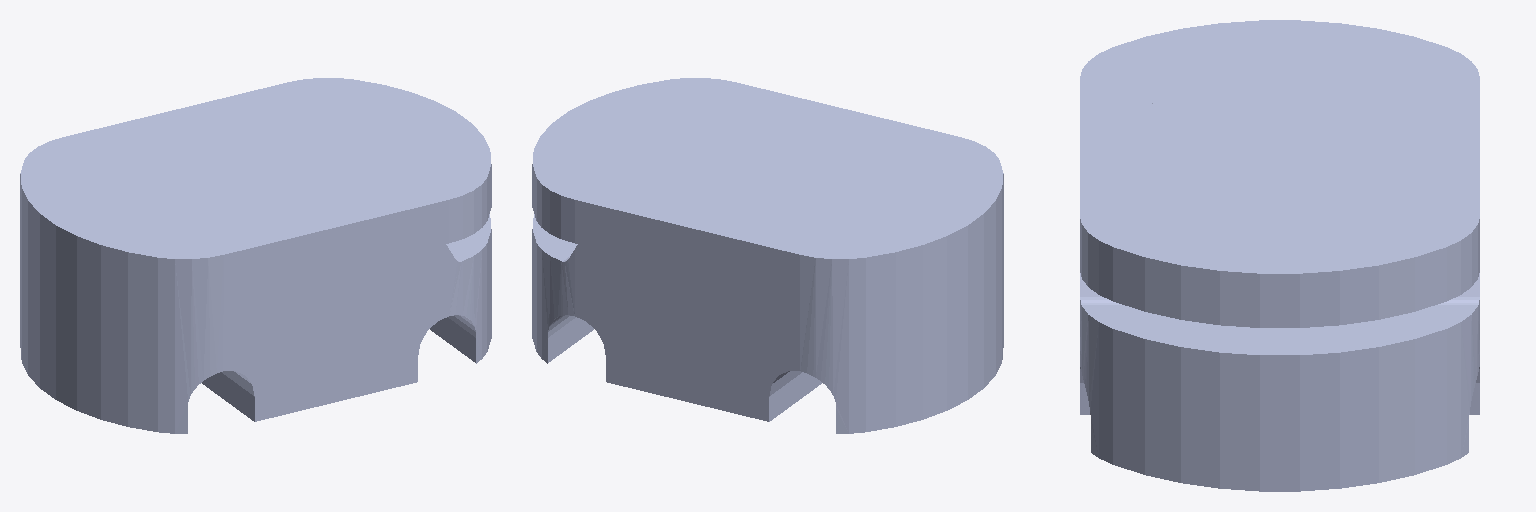
URDF robot description (coba1):
<?xml version="1.0" encoding="utf-8"?>
<!-- This URDF was automatically created by SolidWorks to URDF Exporter! Originally created by [author] ([email redacted]) 
     Commit Version: 1.6.0-4-g7f85cfe  Build Version: 1.6.7995.38578
     For more information, please see http://wiki.ros.org/sw_urdf_exporter -->
<robot
  name="coba1">
  <link
    name="base_link">
    <inertial>
      <origin
        xyz="-0.0060166762532463 8.91299401066717E-08 0.12807893088727"
        rpy="0 0 0" />
      <mass
        value="45.3758520944155" />
      <inertia
        ixx="0.744970811759371"
        ixy="1.05348354285782E-06"
        ixz="0.0101713592661191"
        iyy="1.29692340687596"
        iyz="-4.79450564512595E-07"
        izz="1.6330706670946" />
    </inertial>
    <visual>
      <origin
        xyz="0 0 0"
        rpy="0 0 0" />
      <geometry>
        <mesh
          filename="package://coba1/meshes/base_link.STL" />
      </geometry>
      <material
        name="">
        <color
          rgba="0.792156862745098 0.819607843137255 0.933333333333333 1" />
      </material>
    </visual>
    <collision>
      <origin
        xyz="0 0 0"
        rpy="0 0 0" />
      <geometry>
        <mesh
          filename="package://coba1/meshes/base_link.STL" />
      </geometry>
    </collision>
  </link>
  <link
    name="front_wl">
    <inertial>
      <origin
        xyz="0.1625 0.178772924632851 0.0279999999999998"
        rpy="0 0 0" />
      <mass
        value="0.116774645151429" />
      <inertia
        ixx="2.21422284339803E-05"
        ixy="1.13149431115306E-17"
        ixz="3.03507428854868E-18"
        iyy="2.68140883577402E-05"
        iyz="-1.00838443768295E-17"
        izz="2.21422284339788E-05" />
    </inertial>
    <visual>
      <origin
        xyz="0 0 0"
        rpy="0 0 0" />
      <geometry>
        <mesh
          filename="package://coba1/meshes/front_wl.STL" />
      </geometry>
      <material
        name="">
        <color
          rgba="0.752941176470588 0.752941176470588 0.752941176470588 1" />
      </material>
    </visual>
    <collision>
      <origin
        xyz="0 0 0"
        rpy="0 0 0" />
      <geometry>
        <mesh
          filename="package://coba1/meshes/front_wl.STL" />
      </geometry>
    </collision>
  </link>
  <joint
    name="front_jl"
    type="revolute">
    <origin
      xyz="0 0 0"
      rpy="0 0 0" />
    <parent
      link="base_link" />
    <child
      link="front_wl" />
    <axis
      xyz="0 -1 0" />
    <limit
      lower="0"
      upper="0"
      effort="0"
      velocity="0" />
  </joint>
  <link
    name="rear_wl">
    <inertial>
      <origin
        xyz="-0.162500000000001 0.178772924632625 0.0279999999999995"
        rpy="0 0 0" />
      <mass
        value="0.116774645154449" />
      <inertia
        ixx="2.214222843399E-05"
        ixy="-1.27081472872317E-17"
        ixz="8.52763564065188E-19"
        iyy="2.68140883577964E-05"
        iyz="1.16128704588138E-17"
        izz="2.21422284339904E-05" />
    </inertial>
    <visual>
      <origin
        xyz="0 0 0"
        rpy="0 0 0" />
      <geometry>
        <mesh
          filename="package://coba1/meshes/rear_wl.STL" />
      </geometry>
      <material
        name="">
        <color
          rgba="0.752941176470588 0.752941176470588 0.752941176470588 1" />
      </material>
    </visual>
    <collision>
      <origin
        xyz="0 0 0"
        rpy="0 0 0" />
      <geometry>
        <mesh
          filename="package://coba1/meshes/rear_wl.STL" />
      </geometry>
    </collision>
  </link>
  <joint
    name="rear_jl"
    type="revolute">
    <origin
      xyz="0 0 0"
      rpy="0 0 0" />
    <parent
      link="base_link" />
    <child
      link="rear_wl" />
    <axis
      xyz="0 -1 0" />
    <limit
      lower="0"
      upper="0"
      effort="0"
      velocity="0" />
  </joint>
  <link
    name="front_wr">
    <inertial>
      <origin
        xyz="0.162499999999999 -0.178772924632877 0.0280000000000004"
        rpy="0 0 0" />
      <mass
        value="0.11677464515092" />
      <inertia
        ixx="2.21422284340529E-05"
        ixy="-6.36302071346456E-18"
        ixz="1.25172640905492E-18"
        iyy="2.68140883578077E-05"
        iyz="-1.86466861297461E-18"
        izz="2.21422284340375E-05" />
    </inertial>
    <visual>
      <origin
        xyz="0 0 0"
        rpy="0 0 0" />
      <geometry>
        <mesh
          filename="package://coba1/meshes/front_wr.STL" />
      </geometry>
      <material
        name="">
        <color
          rgba="0.752941176470588 0.752941176470588 0.752941176470588 1" />
      </material>
    </visual>
    <collision>
      <origin
        xyz="0 0 0"
        rpy="0 0 0" />
      <geometry>
        <mesh
          filename="package://coba1/meshes/front_wr.STL" />
      </geometry>
    </collision>
  </link>
  <joint
    name="front_jr"
    type="continuous">
    <origin
      xyz="0 0 0"
      rpy="0 0 0" />
    <parent
      link="base_link" />
    <child
      link="front_wr" />
    <axis
      xyz="0 1 0" />
  </joint>
  <link
    name="rear_wr">
    <inertial>
      <origin
        xyz="-0.162499999999999 -0.178772924632694 0.0279999999999998"
        rpy="0 0 0" />
      <mass
        value="0.11677464515355" />
      <inertia
        ixx="2.2142228433999E-05"
        ixy="-1.09406161802622E-17"
        ixz="4.62216704074221E-18"
        iyy="2.68140883577919E-05"
        iyz="-1.20250257618239E-17"
        izz="2.21422284339989E-05" />
    </inertial>
    <visual>
      <origin
        xyz="0 0 0"
        rpy="0 0 0" />
      <geometry>
        <mesh
          filename="package://coba1/meshes/rear_wr.STL" />
      </geometry>
      <material
        name="">
        <color
          rgba="0.752941176470588 0.752941176470588 0.752941176470588 1" />
      </material>
    </visual>
    <collision>
      <origin
        xyz="0 0 0"
        rpy="0 0 0" />
      <geometry>
        <mesh
          filename="package://coba1/meshes/rear_wr.STL" />
      </geometry>
    </collision>
  </link>
  <joint
    name="rear_jr"
    type="revolute">
    <origin
      xyz="0 0 0"
      rpy="0 0 0" />
    <parent
      link="base_link" />
    <child
      link="rear_wr" />
    <axis
      xyz="0 1 0" />
    <limit
      lower="0"
      upper="0"
      effort="30"
      velocity="30" />
  </joint>
</robot>

--- Render facts (derived) ---
3 views of the same robot in one strip: view 1: azimuth 30°, elevation 25°; view 2: azimuth 150°, elevation 25°; view 3: azimuth 270°, elevation 25° (orthographic).
Robot: coba1 — 5 links, 4 joints (3 revolute, 1 continuous); root link base_link; default pose: all joints at 0.
Links seen in each view (by area): view 1: base_link; view 2: base_link; view 3: base_link.
Boxes of the visible links, left/top/right/bottom form: base_link: left=20, top=78, right=491, bottom=433; base_link: left=532, top=78, right=1003, bottom=433; base_link: left=1080, top=20, right=1479, bottom=491.
Bounding box of the posed robot: 0.5984 × 0.4 × 0.24 m (x, y, z).
Meshes: 5 distinct files referenced, 1 mesh visuals loaded (1 binary STL); not drawn: 4 (reference not matched to a file when rendering).